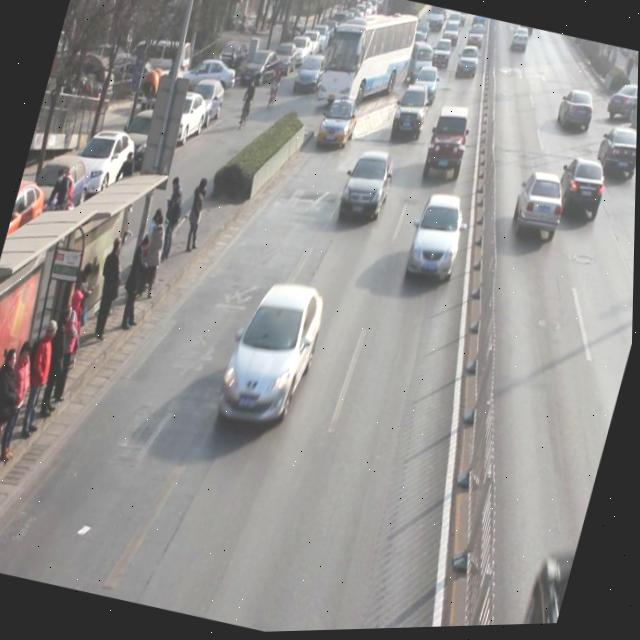car: (214, 273, 334, 441), (405, 190, 472, 288), (336, 146, 399, 231), (421, 104, 477, 189), (509, 171, 572, 246), (553, 156, 612, 229), (387, 82, 434, 148), (315, 94, 363, 157), (594, 126, 638, 185), (553, 90, 599, 144), (604, 83, 638, 133), (408, 65, 444, 111), (454, 45, 483, 85), (429, 38, 455, 74)
truck: (402, 40, 438, 92)
van: (314, 3, 421, 124)
